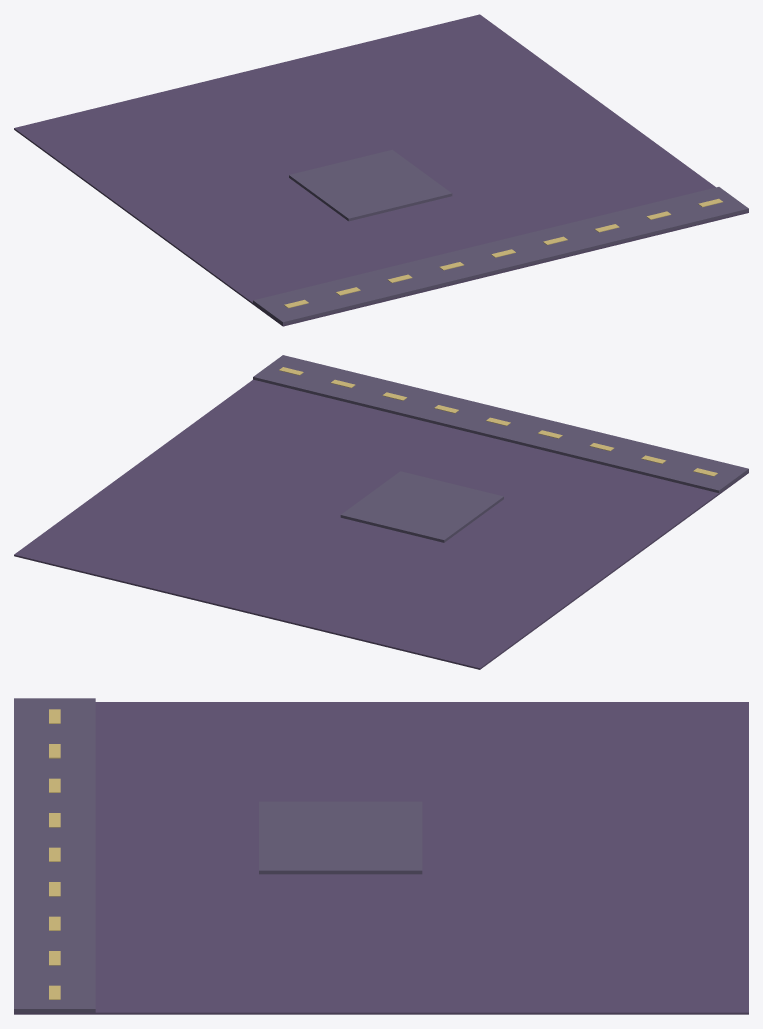
The model's file is stage_01.glb.
The picture shows the model from 3 angles, top to bottom: view 1: azimuth 30°, elevation 25°; view 2: azimuth 150°, elevation 25°; view 3: azimuth 270°, elevation 25°; orthographic projection. The views are drawn at different scales.
Visible parts, largest first — view 1: geometry_0; view 2: geometry_0; view 3: geometry_0.
Part boxes in pixels (x1,y1,x2,y2): geometry_0: [14, 14, 748, 326]; geometry_0: [14, 355, 748, 669]; geometry_0: [14, 698, 748, 1014].
Bounding box in the file's own units: 9 × 0.091 × 9.
